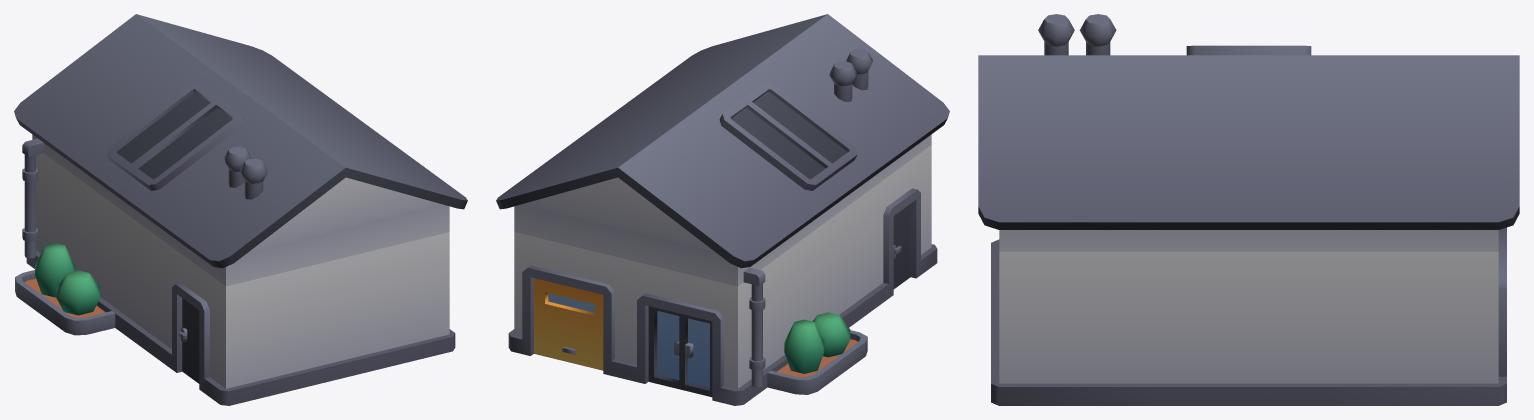
The model's file is industrial-building-i.glb.
The picture shows the model from 3 angles, left to right: view 1: azimuth 30°, elevation 25°; view 2: azimuth 150°, elevation 25°; view 3: azimuth 270°, elevation 25°; orthographic projection. The views are drawn at different scales.
Visible parts, largest first — view 1: building-i; view 2: building-i; view 3: building-i.
Boxes of the visible parts, box(x1,y1,x2,y2) form: building-i: box(14, 14, 467, 405); building-i: box(496, 14, 949, 405); building-i: box(978, 14, 1519, 405).
Bounding box in the file's own units: 1.03 × 0.7335 × 1.3.
